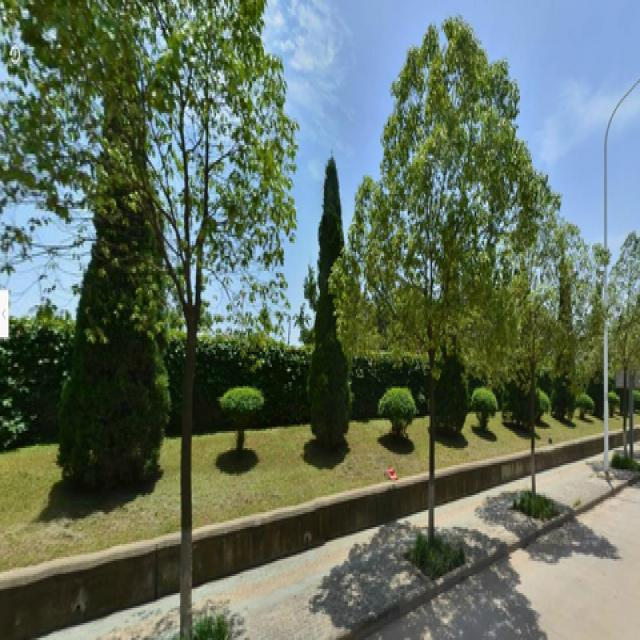cinn: (40, 6, 241, 621), (384, 42, 503, 568), (516, 179, 583, 512)
